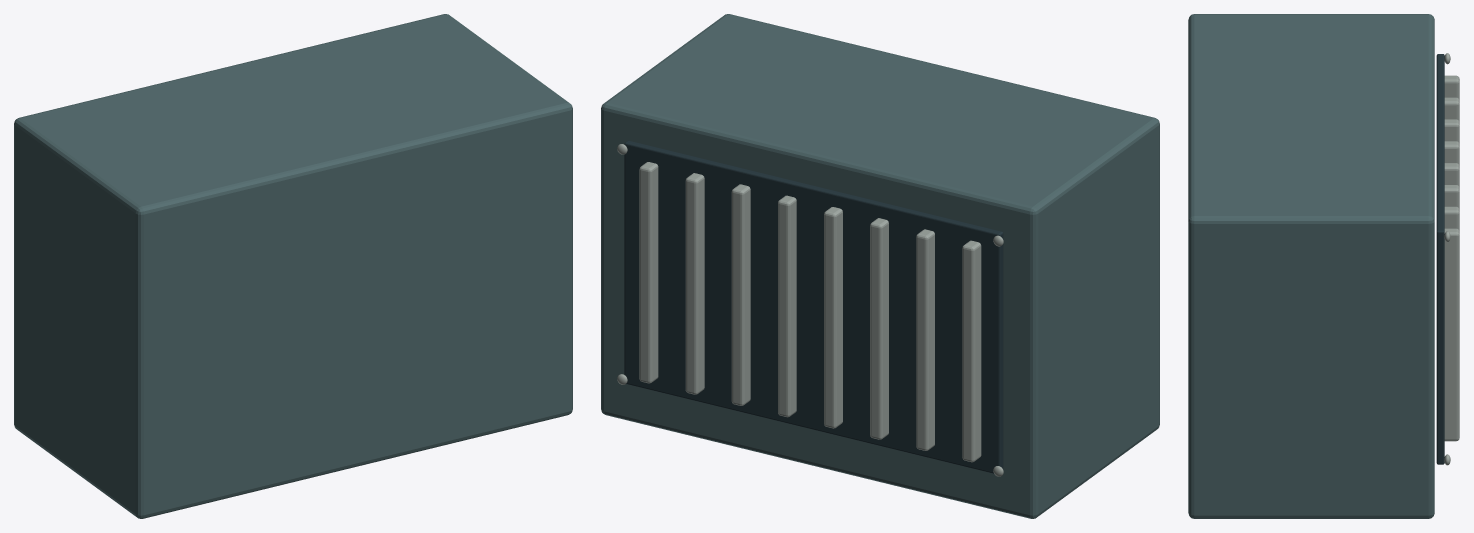
The model's file is vent.fbx.
3 views of the same model, side by side, from view 1: azimuth 30°, elevation 25°; view 2: azimuth 150°, elevation 25°; view 3: azimuth 270°, elevation 25° (orthographic). The views are drawn at different scales.
Visible parts, largest first — view 1: vent; view 2: vent; view 3: vent.
Boxes of the visible parts, x1,y1,x2,y2 form: vent: [14, 14, 572, 518]; vent: [601, 14, 1159, 518]; vent: [1188, 14, 1459, 518].
Bounding box in the file's own units: 123 × 84 × 68.25.
